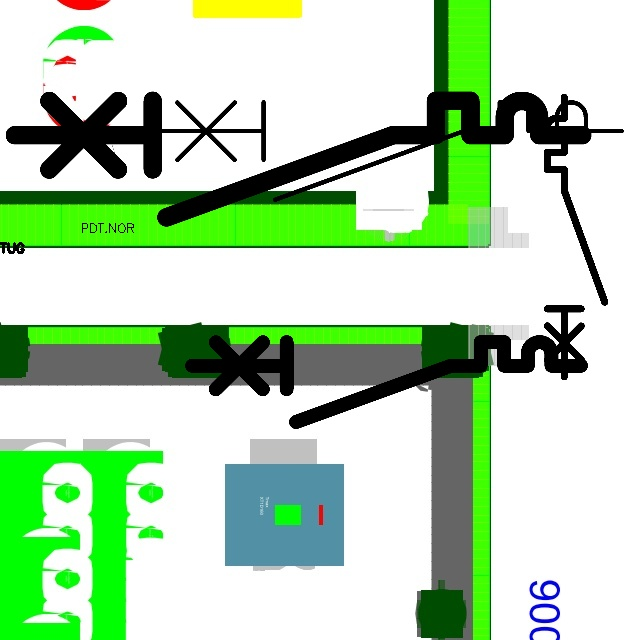interruptor_termomagnetico: (0, 86, 597, 232), (136, 90, 633, 211), (182, 332, 591, 432), (540, 90, 612, 384)
